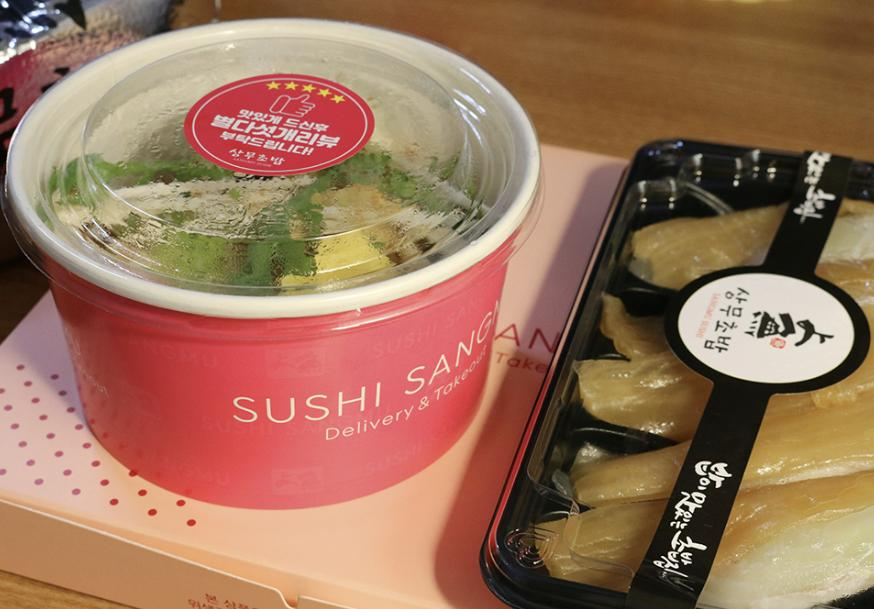Lunch Box: (0, 19, 541, 508), (481, 140, 873, 608)
